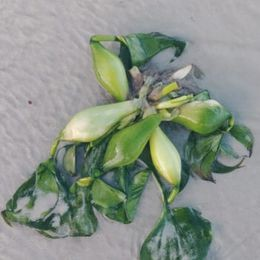water_hyacinth: (5, 31, 254, 258)
